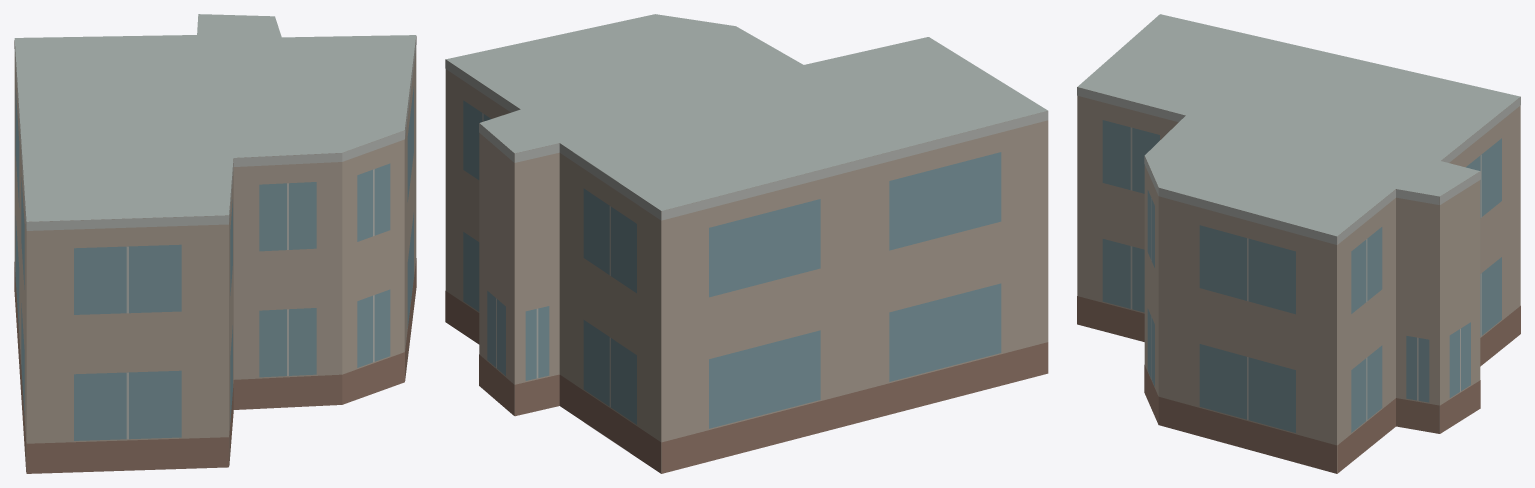
Rendered from survey-upis-32967684.glb.
3 renders of one model, left to right at view 1: azimuth 30°, elevation 25°; view 2: azimuth 150°, elevation 25°; view 3: azimuth 270°, elevation 25°, orthographic. The views are drawn at different scales.
Parts seen in each view (by area): view 1: survey-upis-32967684.tmp; view 2: survey-upis-32967684.tmp; view 3: survey-upis-32967684.tmp.
Part boxes in pixels (bbox=[...]): survey-upis-32967684.tmp: bbox=[14, 14, 416, 473]; survey-upis-32967684.tmp: bbox=[445, 14, 1048, 473]; survey-upis-32967684.tmp: bbox=[1077, 14, 1520, 473].
Size of the model in its own units: 13.47 by 6.7 by 11.35.
